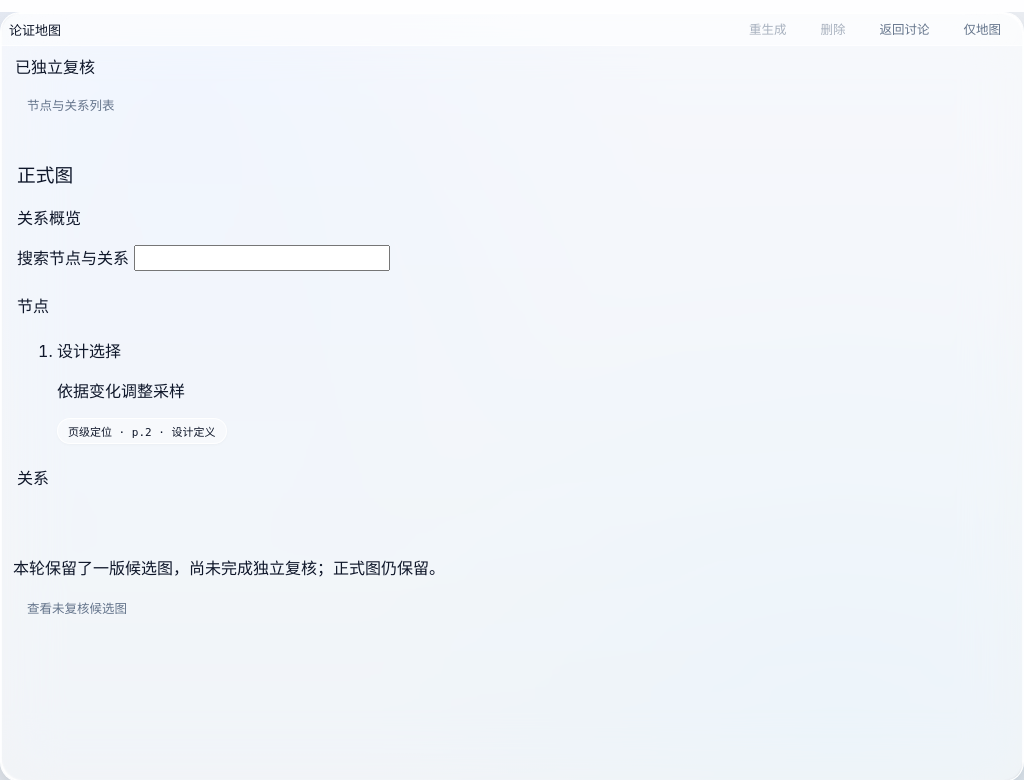
Test: v4 map publication and local plans › keeps the published graph visible while explicitly exposing an unchecked candidate
The image size is (1024, 780).
Expected: the text "设计选择" is shown, x1=57 y1=341 x2=121 y2=361
Expected: the text "候选设计" is not shown
Step 1. Click the button "查看未复核候选图" → {"x": 77, "y": 608}, box x1=13 y1=594 x2=141 y2=622
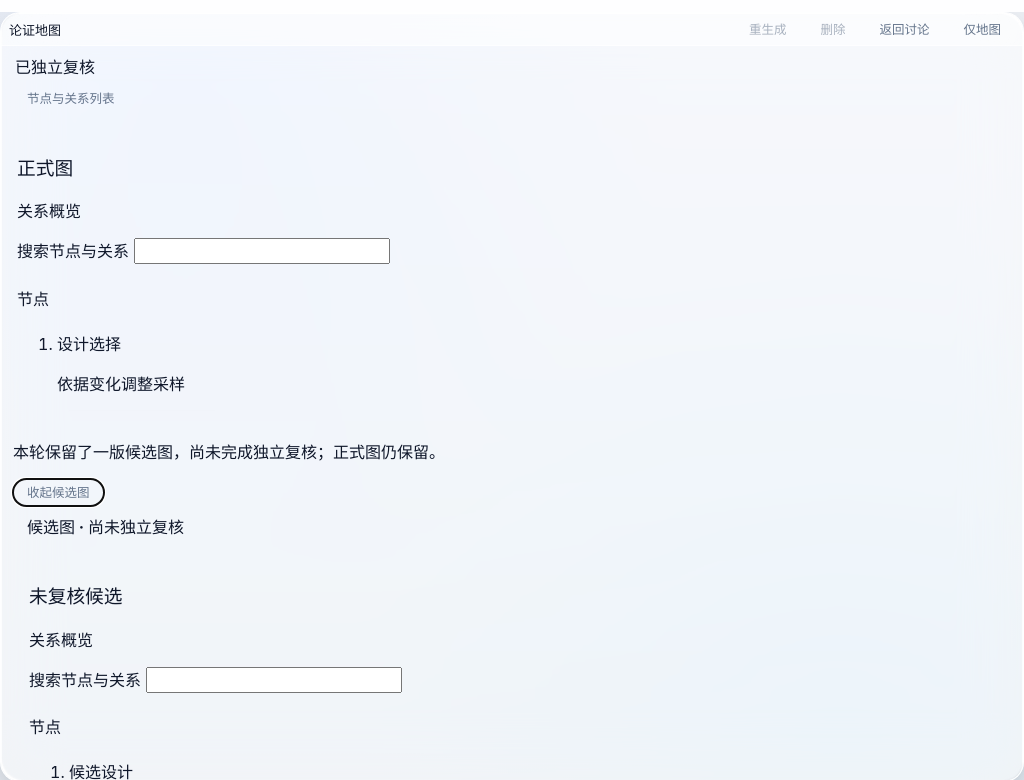
Expected: the text "设计选择" is shown, x1=57 y1=334 x2=121 y2=354
Expected: the text "候选图 · 尚未独立复核" is shown, x1=27 y1=517 x2=184 y2=537
Expected: the text "候选设计" is shown, x1=69 y1=762 x2=133 y2=779
